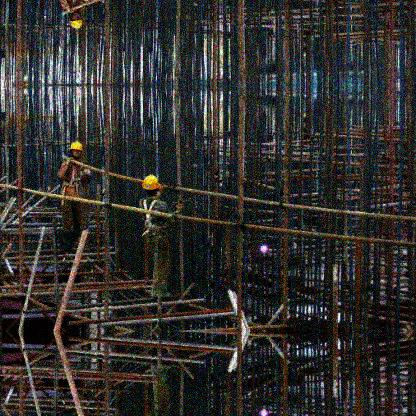helmet: (141, 175, 160, 196), (71, 12, 82, 30), (71, 142, 83, 158)
